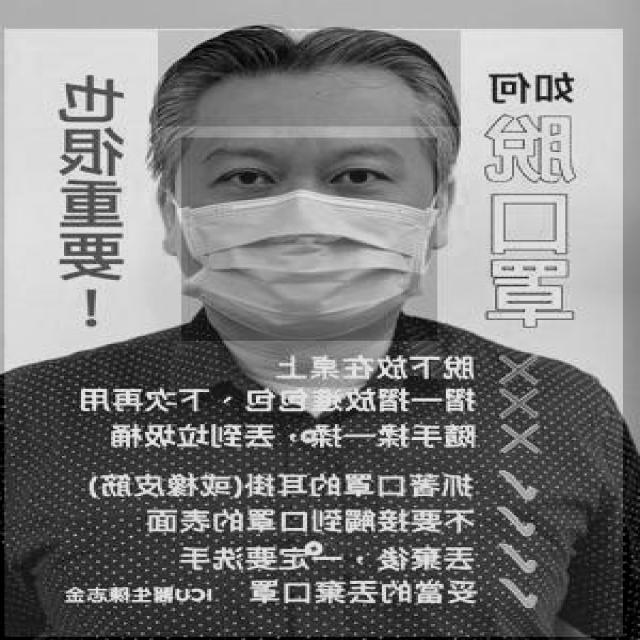face_mask: (182, 137, 438, 340)
head_nohelmet: (156, 30, 461, 128)
person: (2, 29, 623, 638)
